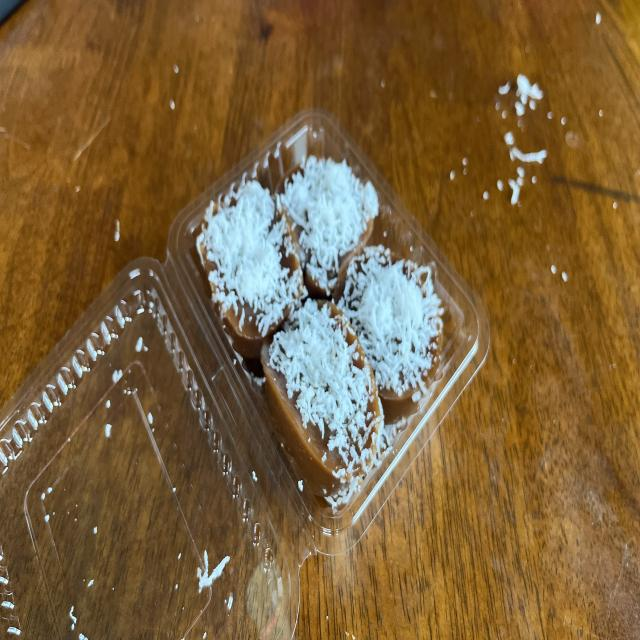Kuih lompang: (261, 298, 382, 496), (335, 244, 444, 422), (196, 180, 304, 358), (280, 156, 379, 298)
